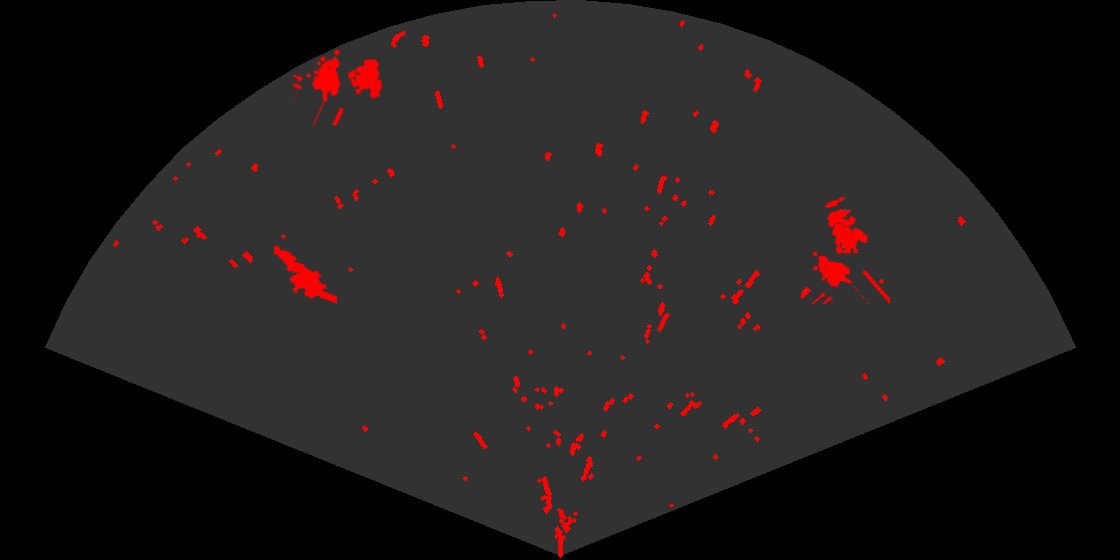ball: (823, 195, 857, 232)
cage: (293, 48, 384, 125), (810, 222, 890, 304)
frogman: (272, 244, 337, 305)
